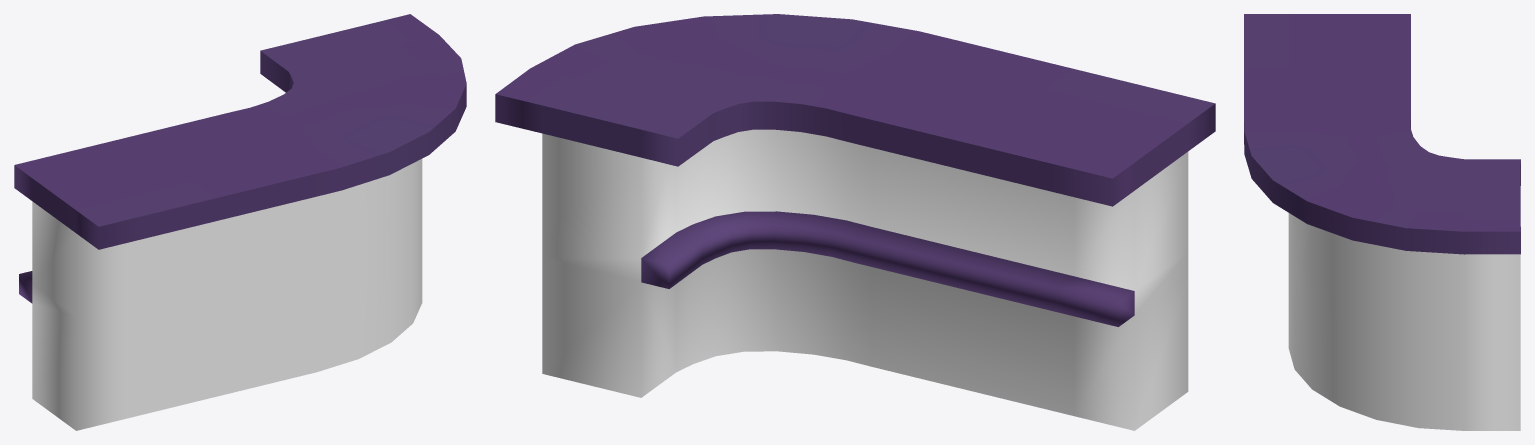
3 views of the same model, side by side, from view 1: azimuth 30°, elevation 25°; view 2: azimuth 150°, elevation 25°; view 3: azimuth 270°, elevation 25° (orthographic). The views are drawn at different scales.
Visible parts, largest first — view 1: JBar.006; view 2: JBar.006; view 3: JBar.006.
Part boxes in pixels (x1,y1,x2,y2): JBar.006: [14, 14, 466, 430]; JBar.006: [495, 14, 1215, 430]; JBar.006: [1244, 14, 1520, 430].
Size of what is drawn, in the model's own units: 2.21 by 1.03 by 1.19.
1 material, 1 textured.
